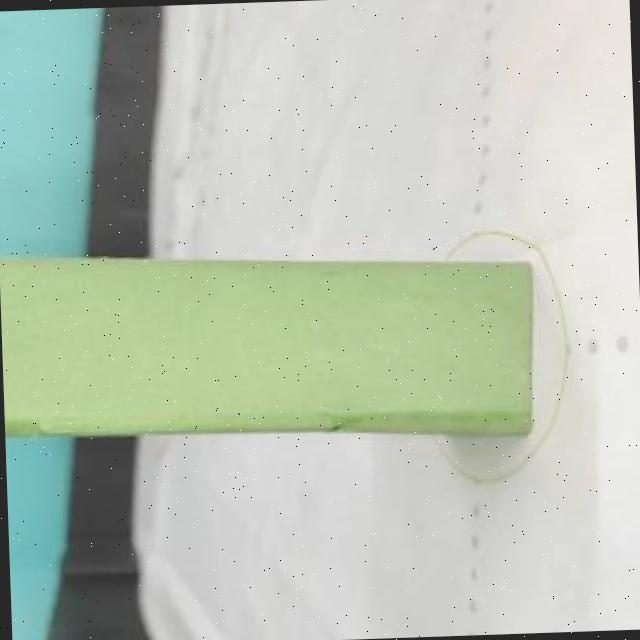greenbox: (0, 236, 539, 453)
